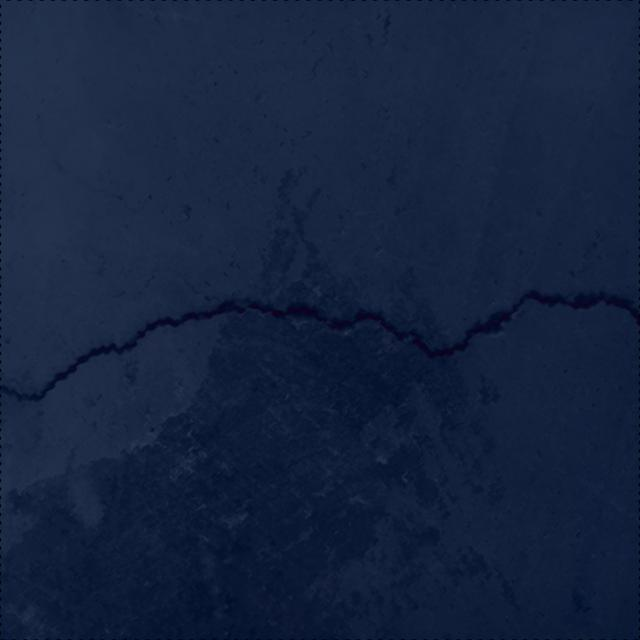crack: (0, 269, 640, 403), (43, 137, 137, 215)
